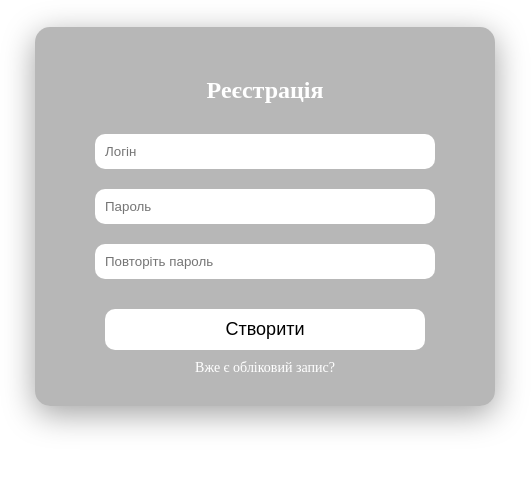
Test: RegistrationBox › відображає помилку, якщо сервер повертає помилку
The image size is (531, 500).
Step 1. Type "testuser" into the field with placeholder "Логін" → (265, 151), box 95,134 -> 435,169
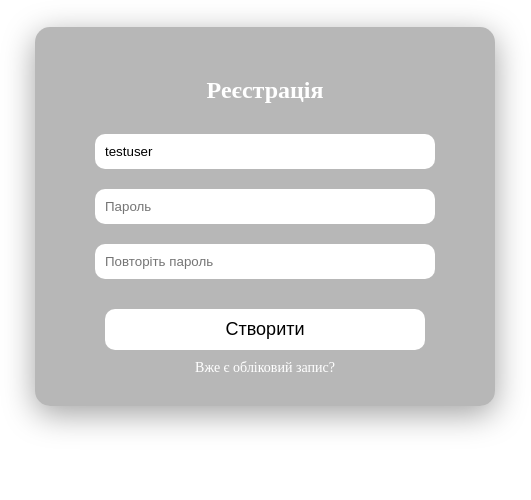
Step 2. Type "password" into the password field with placeholder "Пароль" → (265, 206), box 95,189 -> 435,224
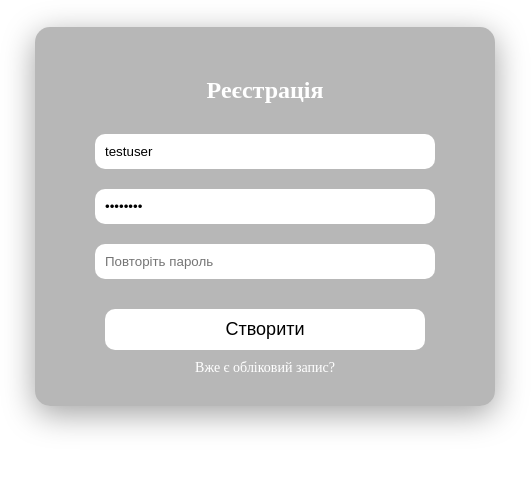
Step 3. Type "password" into the password field with placeholder "Повторіть пароль" → (265, 261), box 95,244 -> 435,279
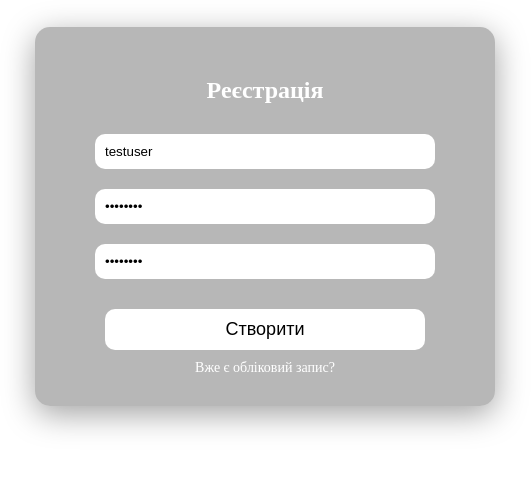
Step 4. Click the button "Створити" → (265, 329), box 105,309 -> 425,350
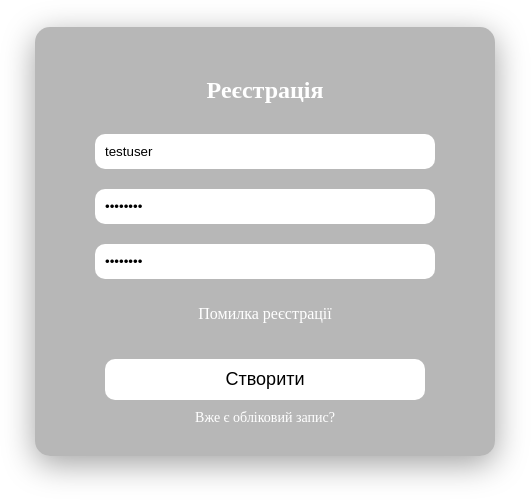
Now the text "Помилка реєстрації" is shown, box 198,305 -> 332,322
